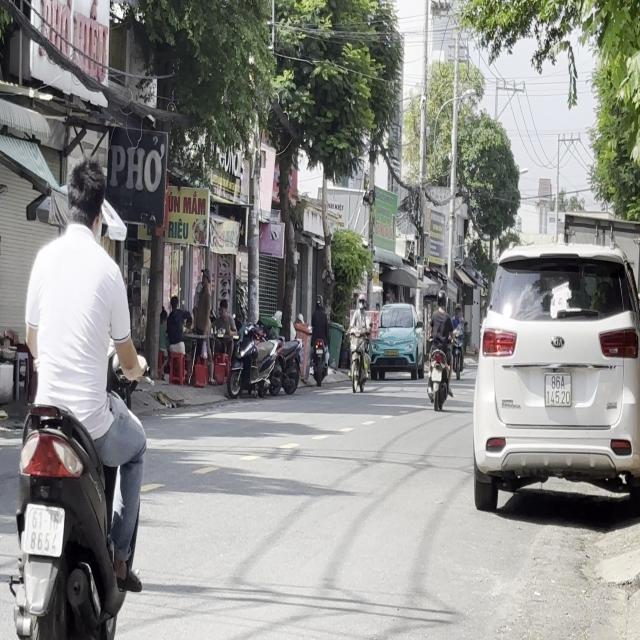licenseplate: (4, 153, 152, 632)
motorcyclist: (64, 159, 107, 238)
nohelmet: (22, 505, 63, 554)
